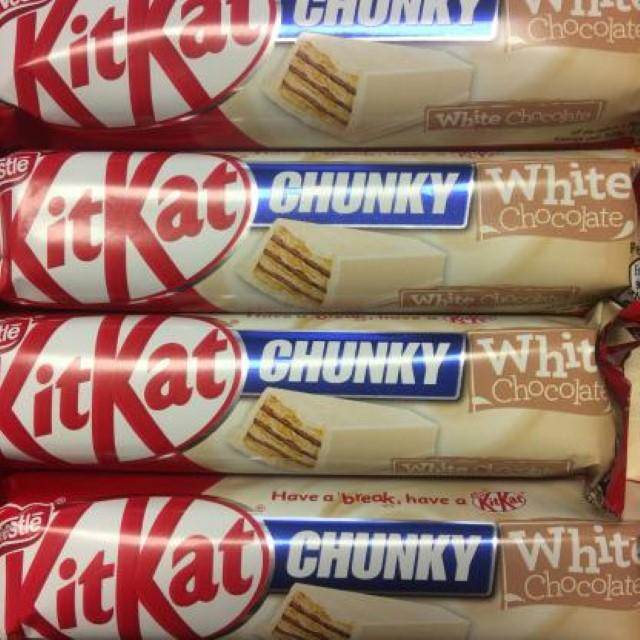kitkat_chocolate: (0, 300, 610, 497), (5, 461, 630, 640), (8, 0, 640, 155), (0, 140, 615, 290)
